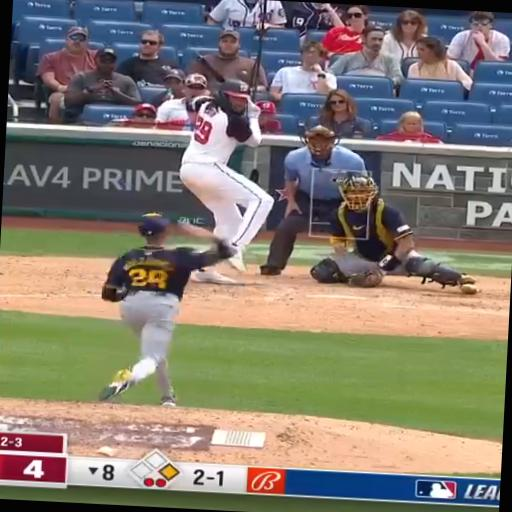bat: (188, 46, 232, 82)
